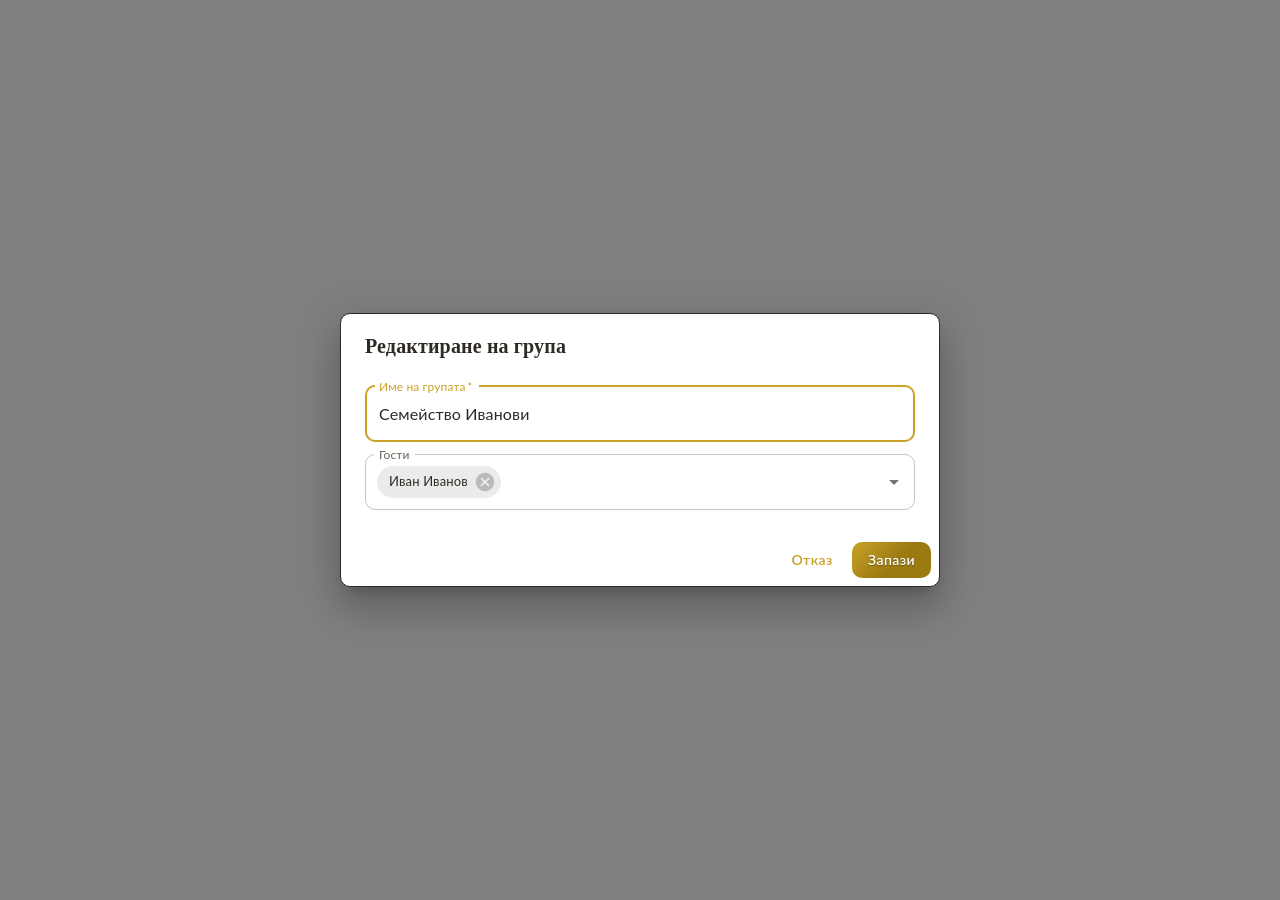
Test: GroupDialog › shows the error when saving fails and lets the user try again
Click the button "Запази" at (892, 560), box [852,542,931,578]
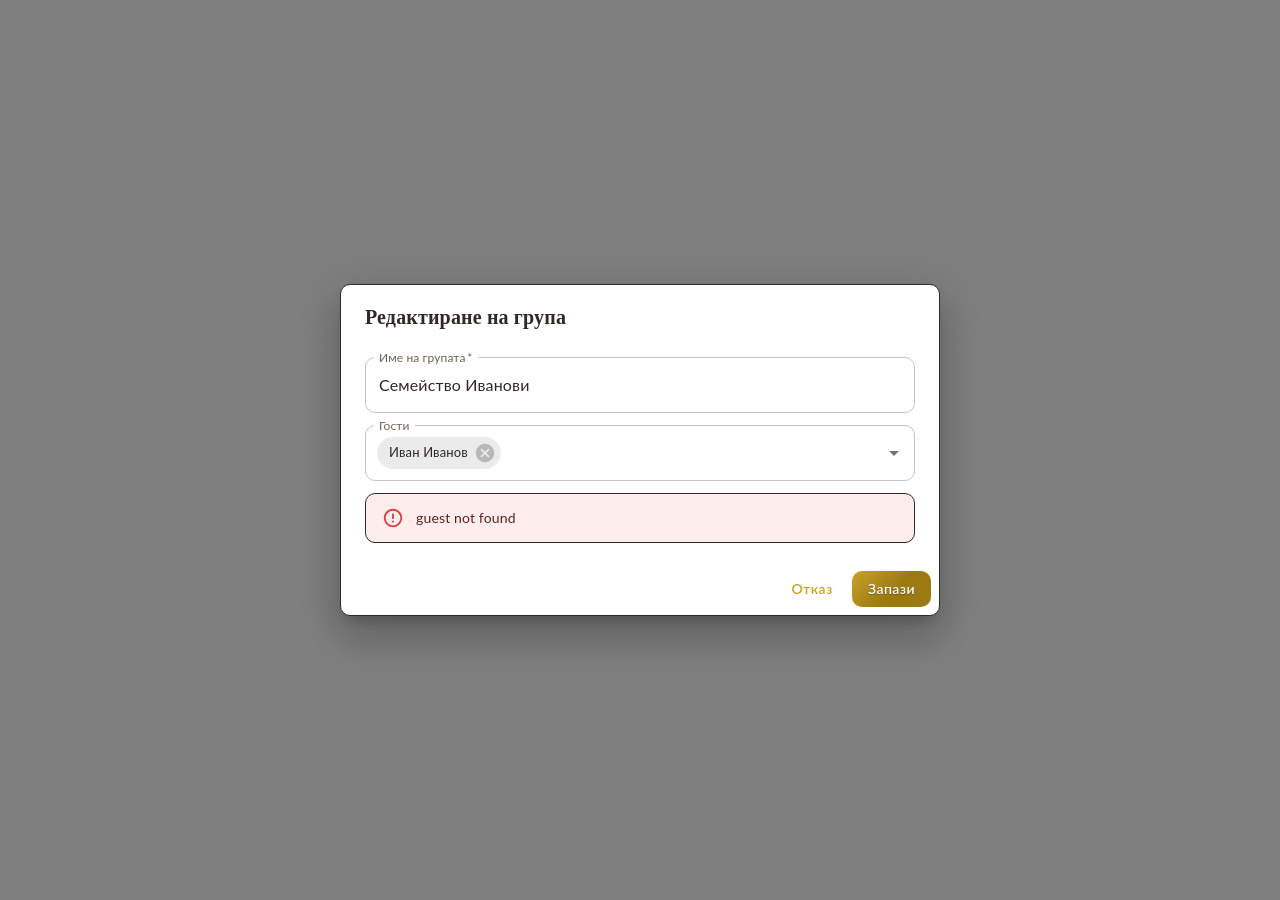
Expected: the button "Запази" is enabled, [852,571,931,607]
Expected: the text "guest not found" is shown, [416,509,516,526]
